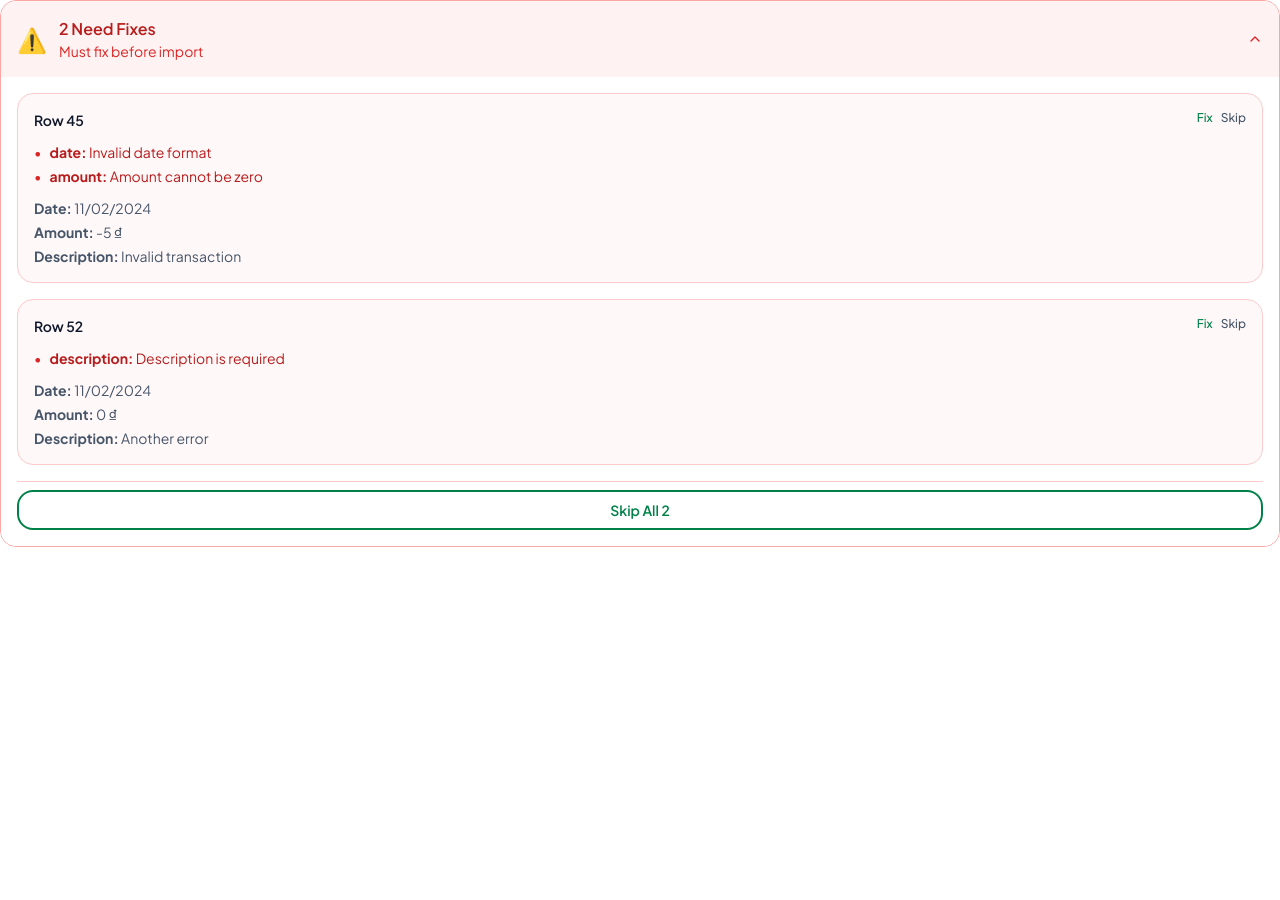
Test: ErrorSection › toggles edit mode when clicking Fix and Cancel
The width and height of the screenshot is (1280, 900).
# Click Fix
Click the button "Fix" in the row of "45" at (1205, 118), box 1197,110 -> 1213,126
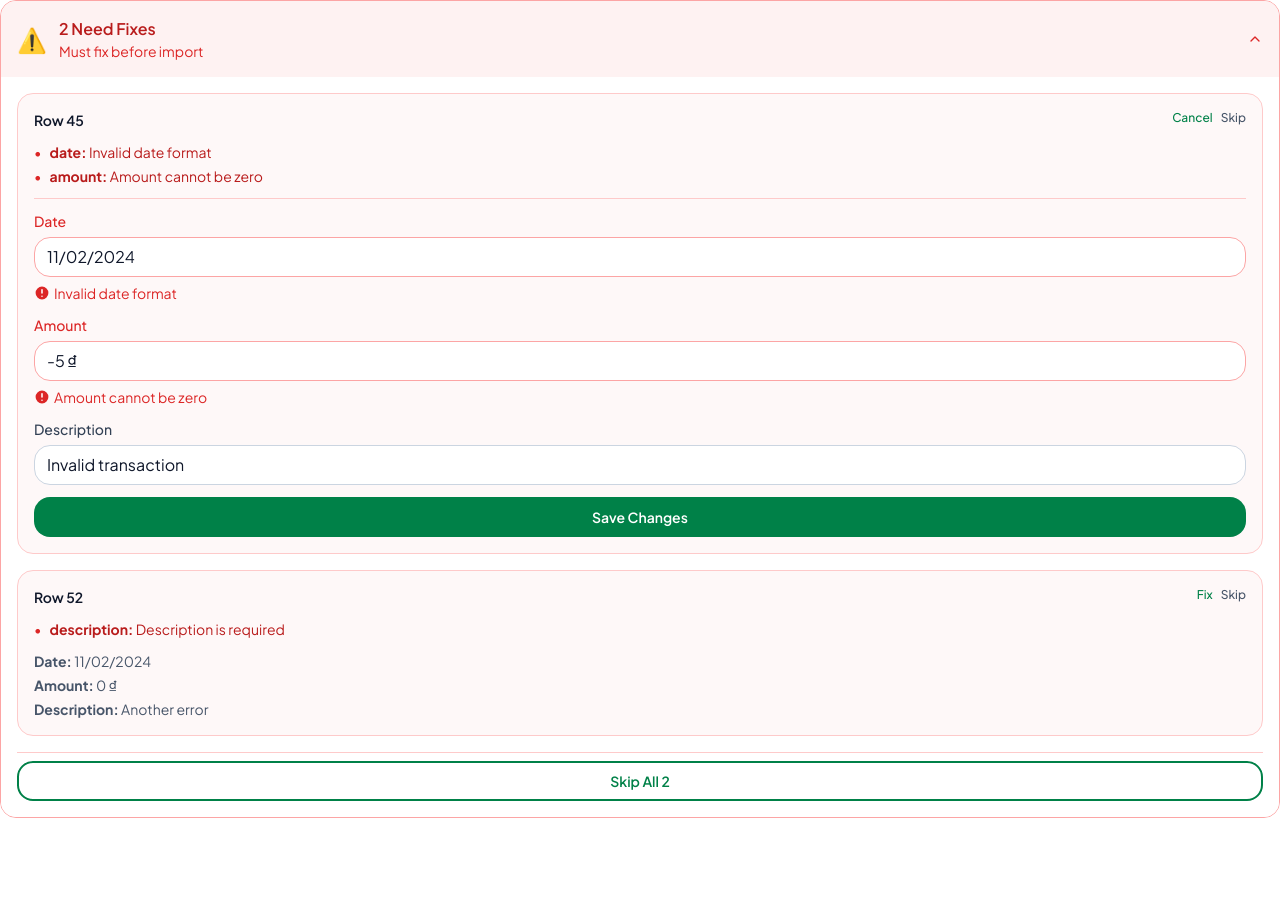
expect the button "Cancel" is shown: met
# Click Cancel
Click the button "Cancel" at (1192, 118), box 1172,110 -> 1213,126
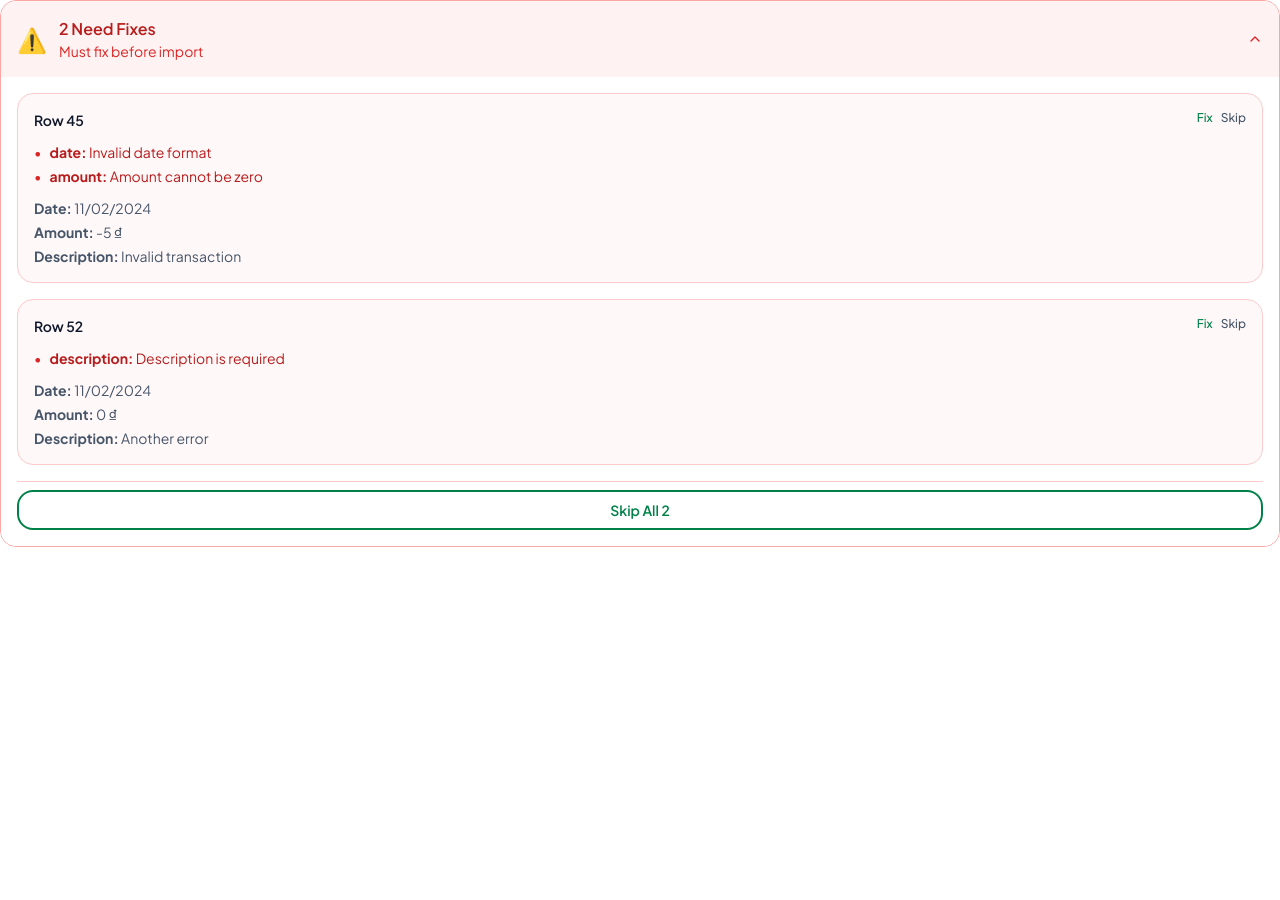
expect the button "Fix" in the row of "45" is shown: met, box 1197,110 -> 1213,126
